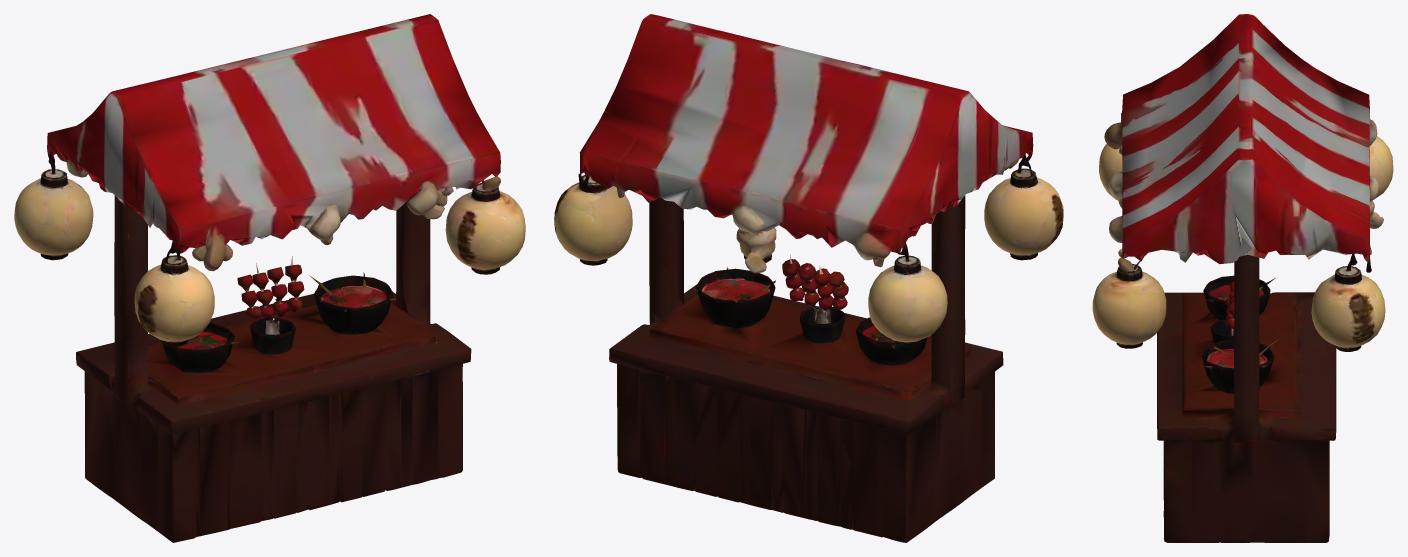
The model's file is prop_hanabi_stall.fbx.
The picture shows the model from 3 angles, left to right: view 1: azimuth 30°, elevation 25°; view 2: azimuth 150°, elevation 25°; view 3: azimuth 270°, elevation 25°; orthographic projection. The views are drawn at different scales.
Visible parts, largest first — view 1: geometry_0; view 2: geometry_0; view 3: geometry_0.
Boxes of the visible parts, left/top/right/bottom form: geometry_0: left=14, top=14, right=525, bottom=542; geometry_0: left=554, top=14, right=1063, bottom=542; geometry_0: left=1092, top=14, right=1393, bottom=542.
Size of the model in its own units: 0.9637 by 1 by 0.6976.
Materials: 1 (1 with a texture image).
